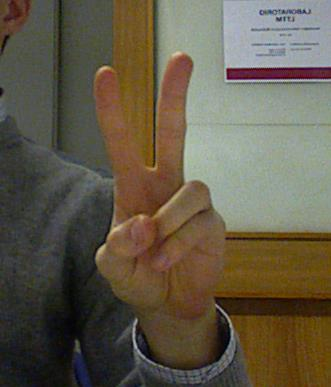front: (91, 48, 234, 314)
